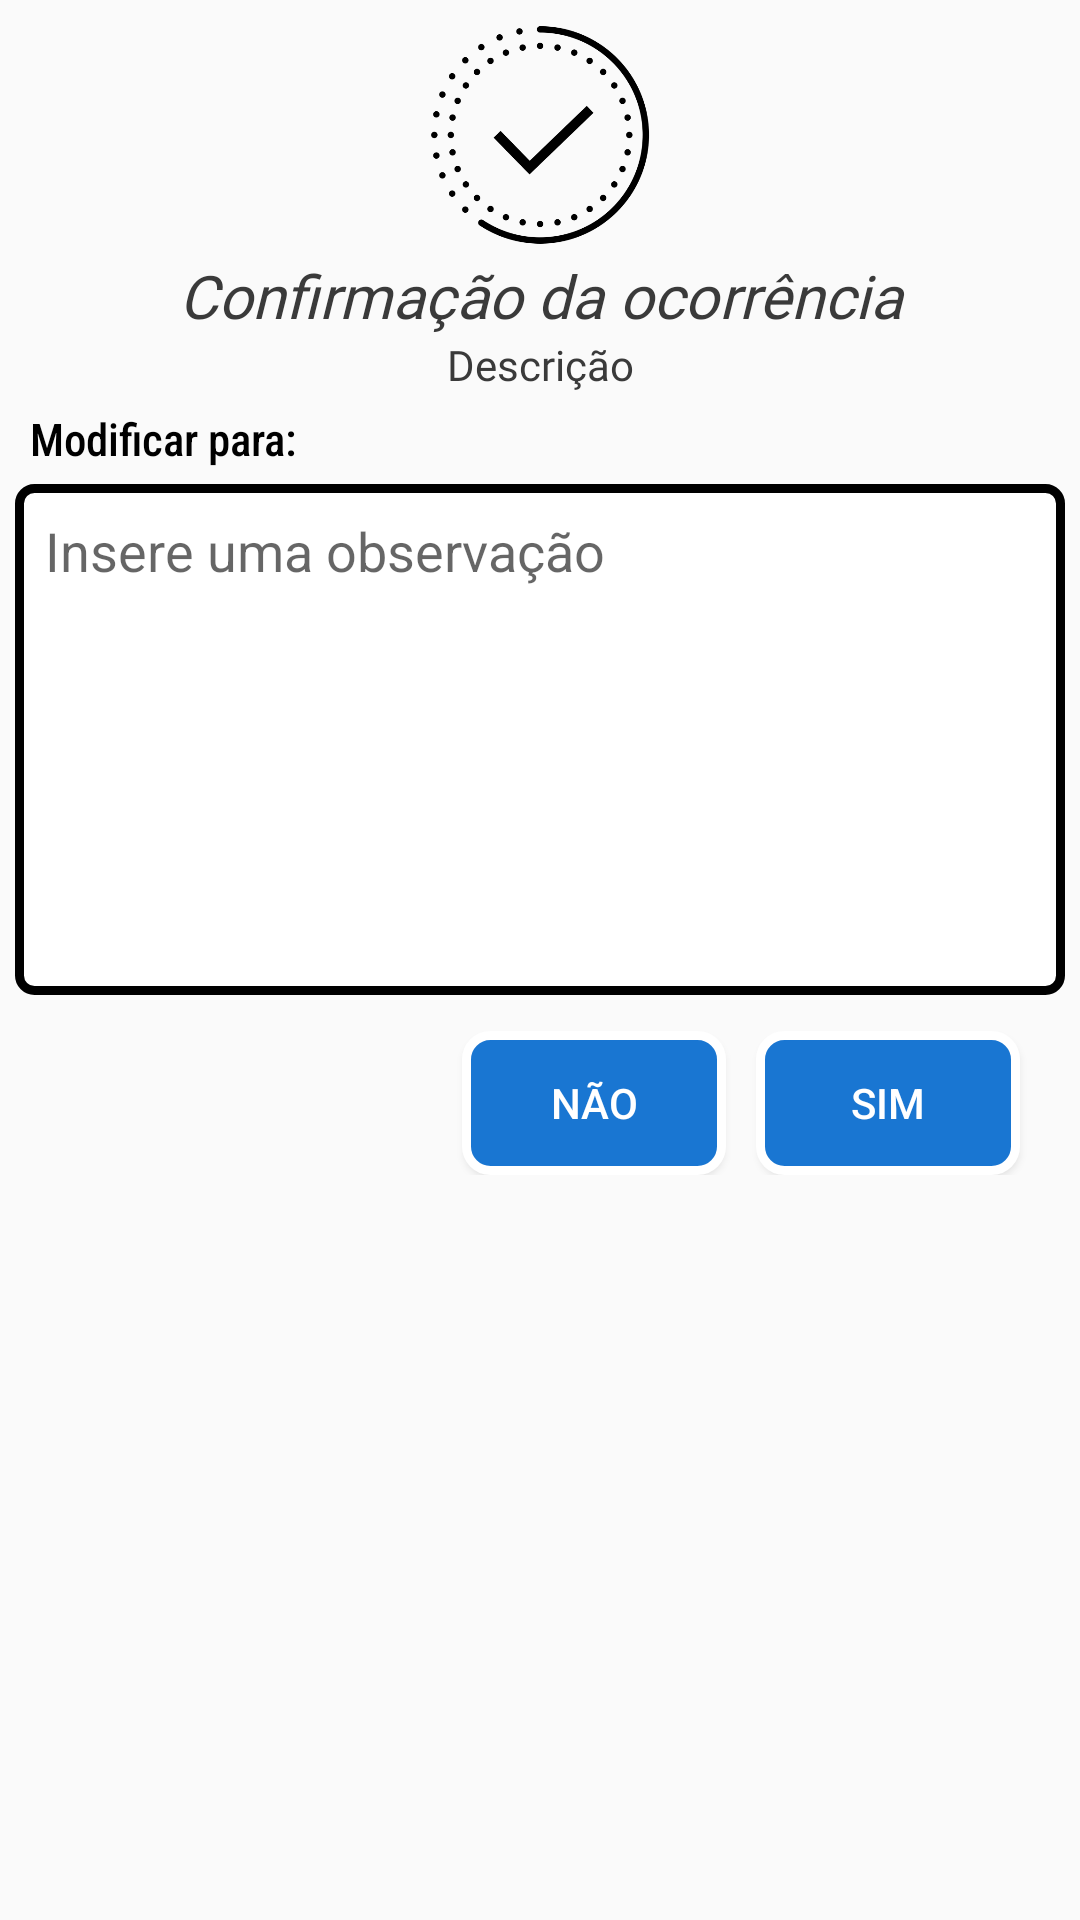

Icons on this 1080w x 1920h Android screen, each with the point to tap as (x=x, y=y):
verification dialog: (x=540, y=135)
